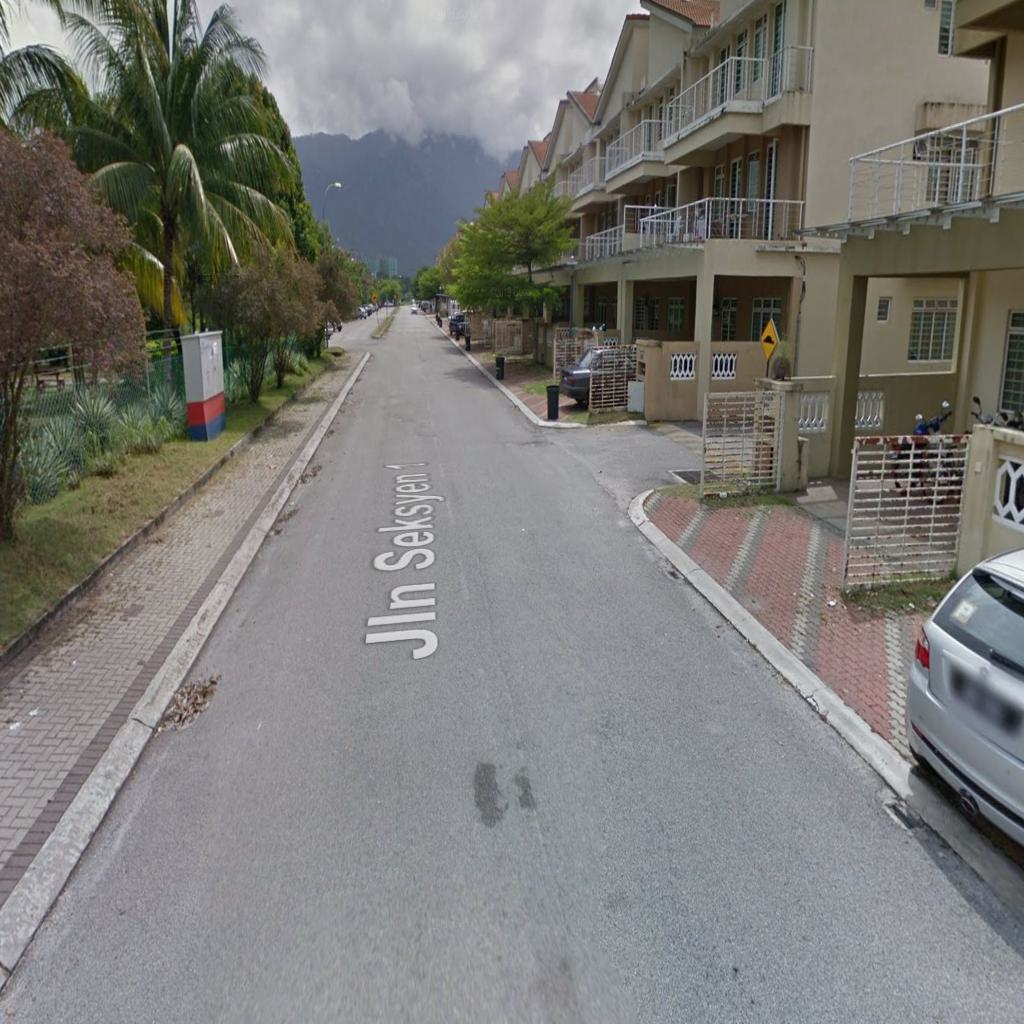Junction: (514, 390, 756, 524)
